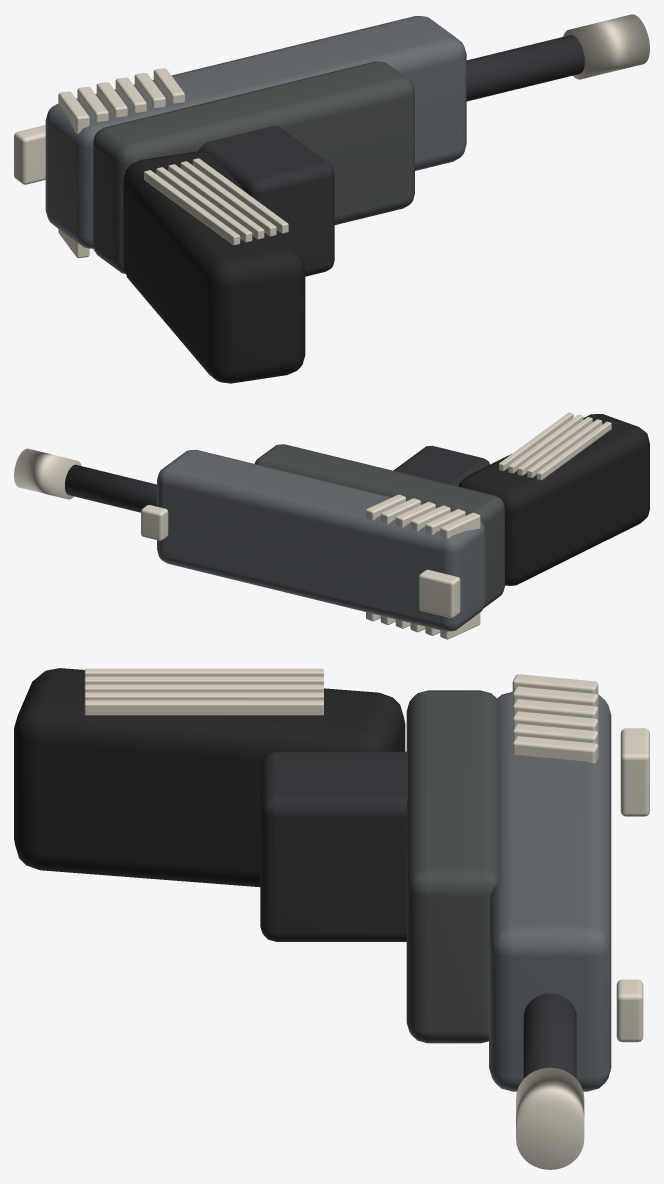
The model's file is pistol_m5_candidate.glb.
3 views of the same model, one above another, from view 1: azimuth 30°, elevation 25°; view 2: azimuth 150°, elevation 25°; view 3: azimuth 270°, elevation 25° (orthographic). The views are drawn at different scales.
Visible parts, largest first — view 1: pistol_frame_polymer, pistol_grip_textured, pistol_slide_beveled, trigger_guard, barrel_visible, threaded_muzzle, rear_sight, grip_stipple_00, grip_stipple_04, grip_stipple_01, grip_stipple_03, grip_stipple_02 (+6 smaller); view 2: pistol_slide_beveled, pistol_grip_textured, pistol_frame_polymer, barrel_visible, trigger_guard, threaded_muzzle, rear_sight, slide_serration_00, front_sight, grip_stipple_00, grip_stipple_02, grip_stipple_03 (+7 smaller); view 3: pistol_grip_textured, pistol_slide_beveled, pistol_frame_polymer, trigger_guard, threaded_muzzle, barrel_visible, grip_stipple_04, rear_sight, grip_stipple_03, grip_stipple_01, grip_stipple_02, grip_stipple_00 (+7 smaller).
Boxes of the visible parts, x1,y1,x2,y2 form: pistol_frame_polymer: [93, 61, 414, 273]; pistol_grip_textured: [123, 151, 305, 383]; pistol_slide_beveled: [45, 16, 466, 248]; trigger_guard: [199, 126, 334, 276]; barrel_visible: [466, 35, 584, 101]; threaded_muzzle: [563, 14, 649, 79]; rear_sight: [14, 125, 45, 184]; grip_stipple_00: [144, 170, 240, 245]; grip_stipple_04: [192, 158, 288, 233]; grip_stipple_01: [156, 167, 252, 242]; grip_stipple_03: [180, 161, 276, 236]; grip_stipple_02: [168, 164, 264, 239]; pistol_slide_beveled: [157, 449, 485, 631]; pistol_grip_textured: [459, 414, 649, 585]; pistol_frame_polymer: [254, 444, 504, 608]; barrel_visible: [65, 464, 156, 512]; trigger_guard: [393, 445, 489, 486]; threaded_muzzle: [14, 448, 81, 499]; rear_sight: [419, 569, 460, 617]; slide_serration_00: [440, 512, 480, 639]; front_sight: [141, 505, 168, 540]; grip_stipple_00: [536, 421, 611, 480]; grip_stipple_02: [517, 417, 592, 475]; grip_stipple_03: [508, 414, 583, 473]; pistol_grip_textured: [14, 668, 405, 887]; pistol_slide_beveled: [489, 692, 611, 1091]; pistol_frame_polymer: [406, 690, 499, 1043]; trigger_guard: [260, 751, 407, 941]; threaded_muzzle: [516, 1067, 584, 1169]; barrel_visible: [523, 993, 576, 1078]; grip_stipple_04: [84, 700, 323, 715]; rear_sight: [620, 728, 649, 816]; grip_stipple_03: [84, 692, 323, 700]; grip_stipple_01: [84, 676, 323, 684]; grip_stipple_02: [84, 684, 323, 692]; grip_stipple_00: [84, 668, 323, 676].
Size of what is drawn, in the model's own units: 1.77 by 0.3925 by 1.2.
